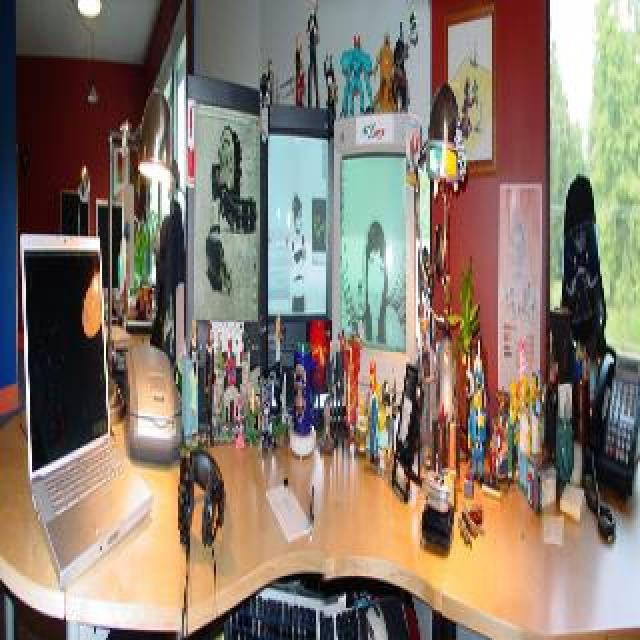laptop_computer: (13, 222, 132, 540)
